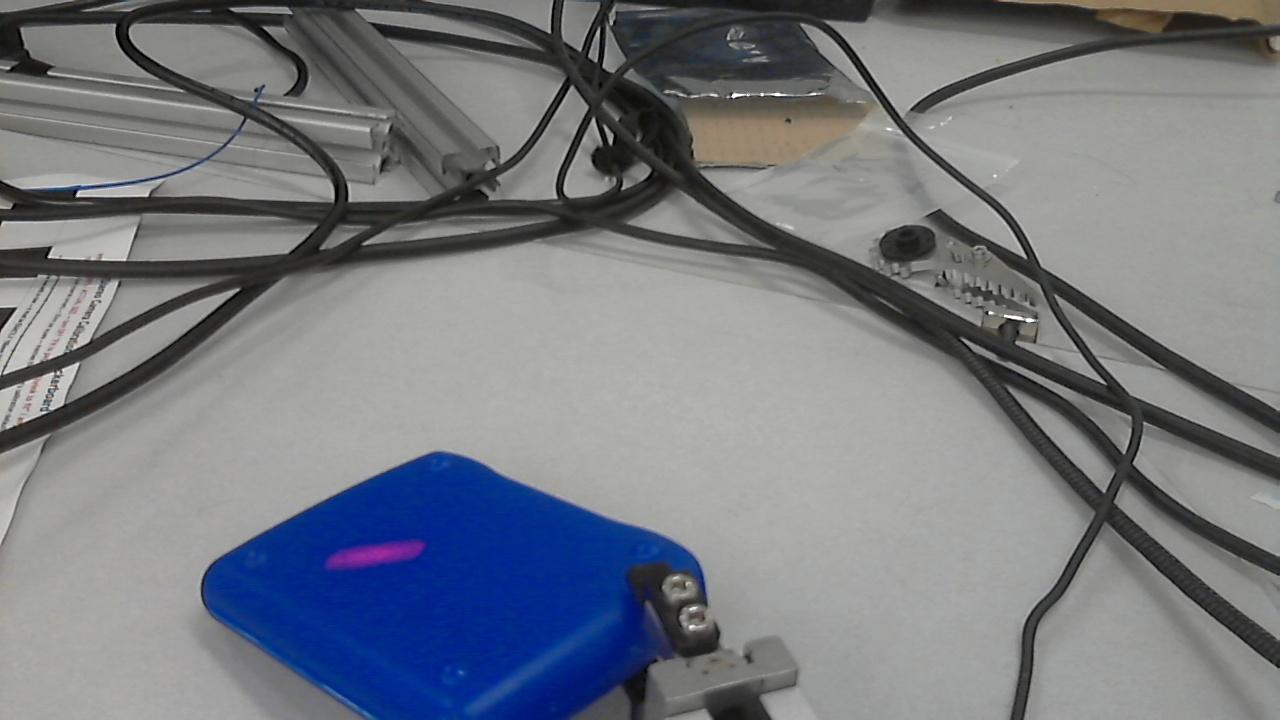Object plastic first aid kit - Material plastic -Color blue -Pdfname 6lew56E5S7E: (305, 538, 449, 582)
